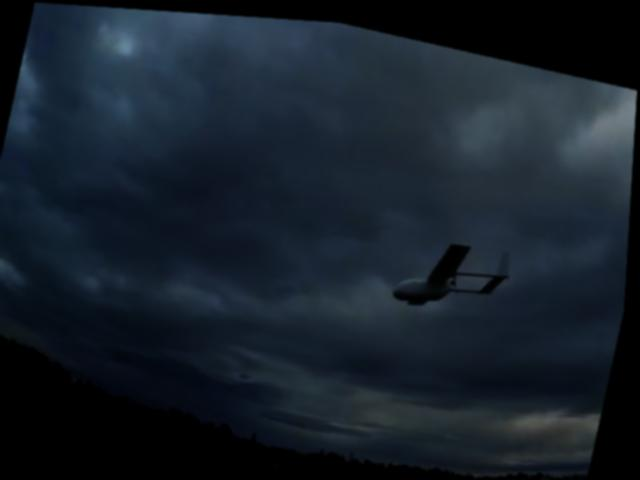uav: (391, 215, 519, 319)
